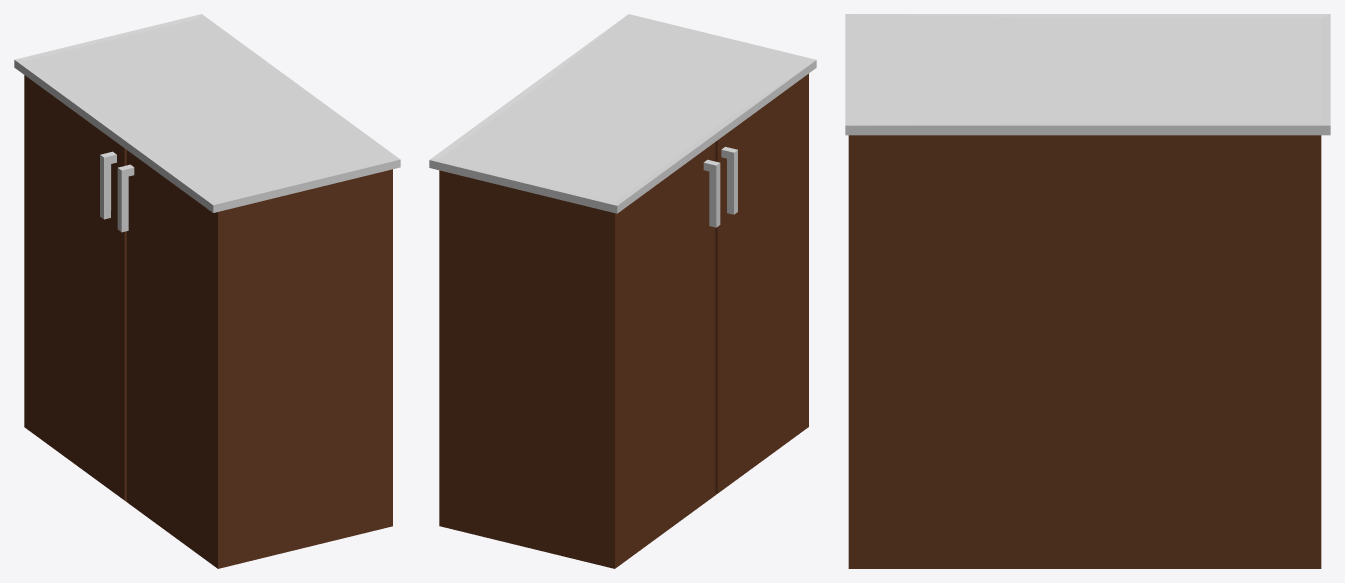
The model's file is LittleKabinett.fbx.
3 views of the same model, side by side, from view 1: azimuth 30°, elevation 25°; view 2: azimuth 150°, elevation 25°; view 3: azimuth 270°, elevation 25° (orthographic). The views are drawn at different scales.
Visible parts, largest first — view 1: Cube.093; view 2: Cube.093; view 3: Cube.093.
Boxes of the visible parts, x1,y1,x2,y2 form: Cube.093: (14, 14, 400, 568); Cube.093: (429, 14, 816, 568); Cube.093: (845, 14, 1330, 568).
Bounding box in the file's own units: 77.23 × 139 × 137.
